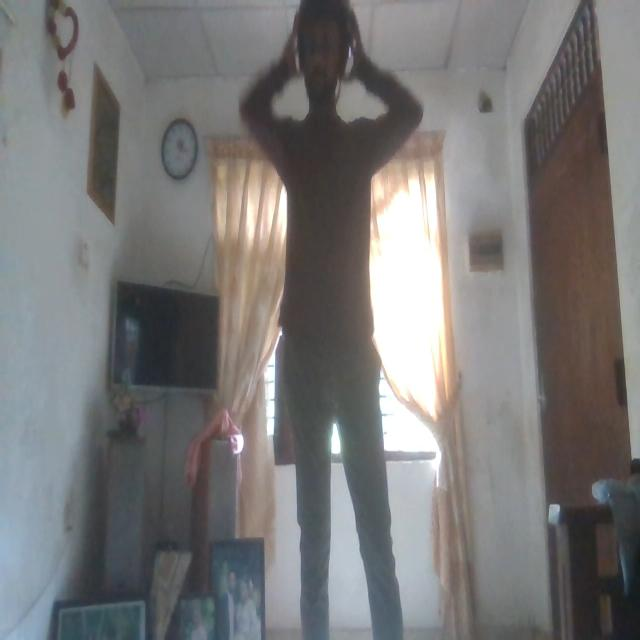Helmet_Wearer: (283, 0, 363, 109)
Person: (246, 0, 424, 640)
